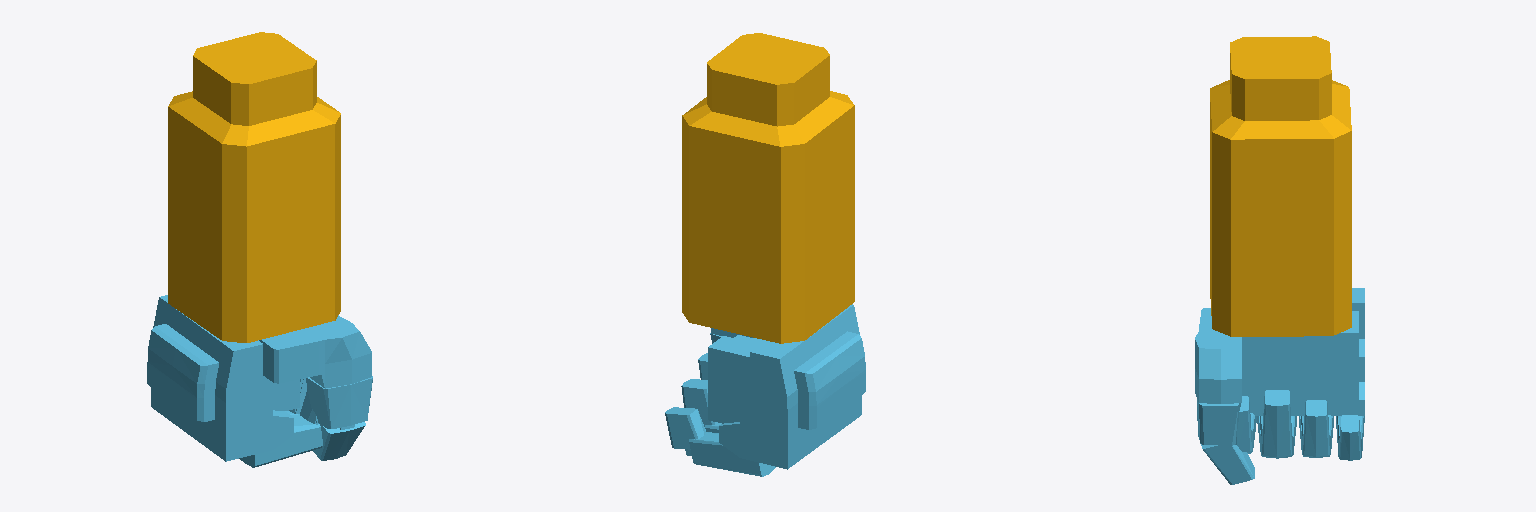
File: handDR.obj
3 views of the same model, side by side, from view 1: azimuth 30°, elevation 25°; view 2: azimuth 150°, elevation 25°; view 3: azimuth 270°, elevation 25° (orthographic).
Parts seen in each view (by area): view 1: polySurface203; view 2: polySurface203; view 3: polySurface203.
Boxes of the visible parts, box(x1,y1,x2,y2) form: polySurface203: box(147, 32, 372, 467); polySurface203: box(665, 33, 865, 476); polySurface203: box(1195, 36, 1364, 484).
Bounding box in the file's own units: 2.85 × 6.85 × 2.67.